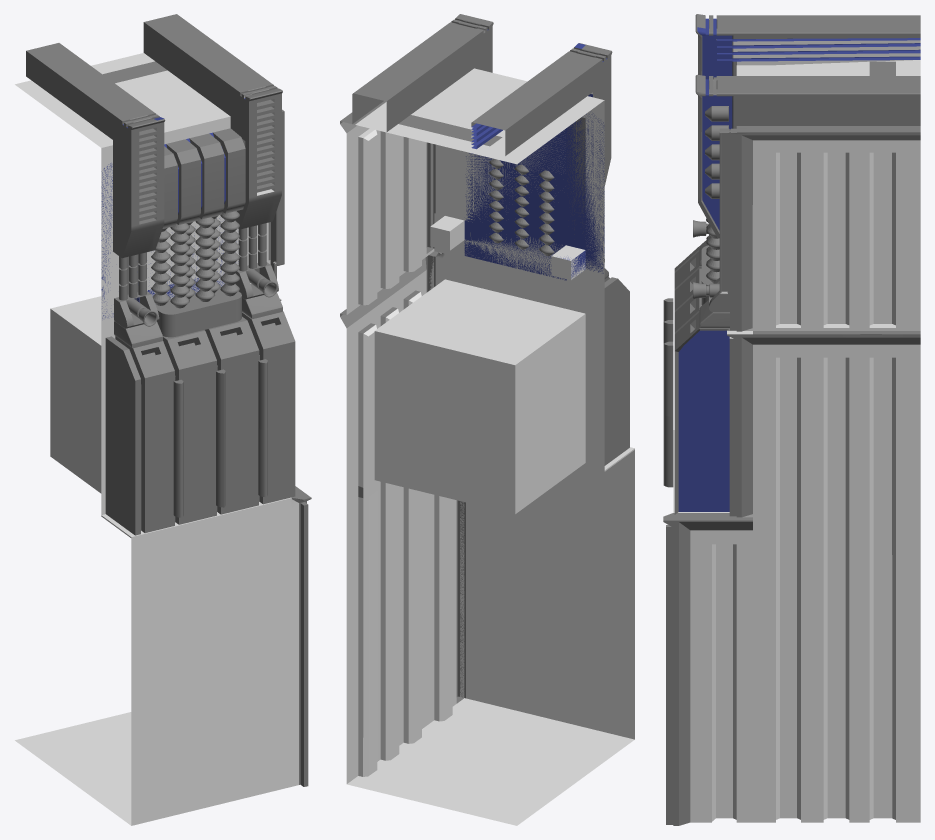
File: Level2Enterance.fbx
The picture shows the model from 3 angles, left to right: view 1: azimuth 30°, elevation 25°; view 2: azimuth 150°, elevation 25°; view 3: azimuth 270°, elevation 25°; orthographic projection. The views are drawn at different scales.
Visible parts, largest first — view 1: pCylinder25, polySurface520, polySurface502, polySurface518, polySurface518.001; view 2: pCylinder25, polySurface520, polySurface502; view 3: pCylinder25, polySurface518, polySurface518.001, polySurface520.
Part boxes in pixels (x1,y1,x2,y2): pCylinder25: [15, 14, 311, 825]; polySurface520: [105, 330, 224, 457]; polySurface502: [105, 426, 224, 535]; polySurface518: [205, 311, 295, 439]; polySurface518.001: [217, 419, 295, 514]; pCylinder25: [340, 14, 634, 825]; polySurface520: [604, 276, 629, 376]; polySurface502: [604, 367, 629, 465]; pCylinder25: [663, 14, 920, 825]; polySurface518: [663, 296, 729, 432]; polySurface518.001: [663, 415, 729, 514]; polySurface520: [663, 246, 701, 321].
Size of the model in its own units: 510 by 1911 by 612.
